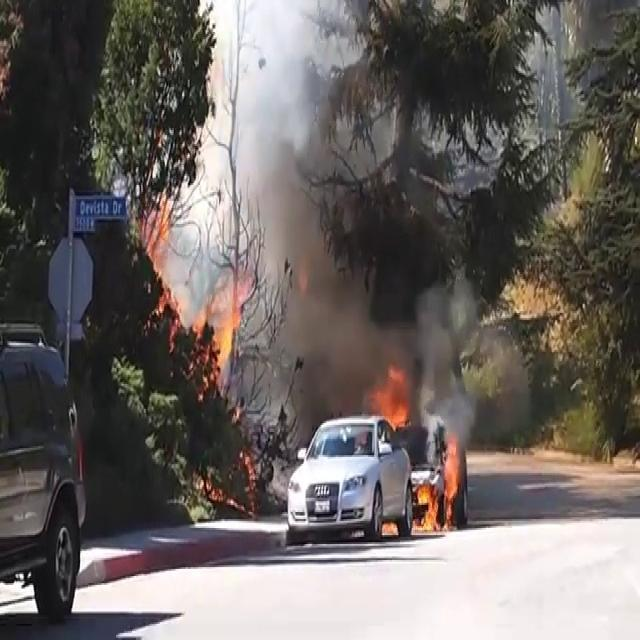Fire: (191, 271, 248, 396), (412, 431, 467, 533), (366, 361, 416, 432)
Smoke: (192, 2, 482, 426), (414, 268, 566, 446)
